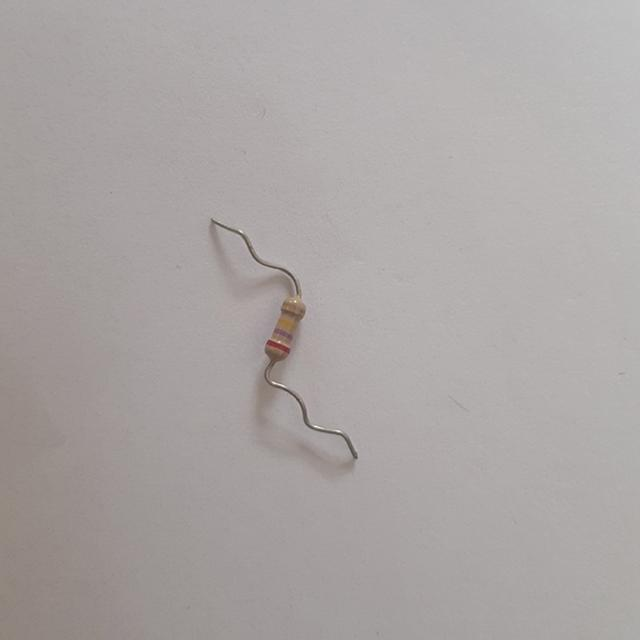gold: (282, 303, 304, 315)
red: (267, 337, 289, 353)
resistor: (254, 287, 315, 373)
violet: (273, 328, 291, 338)
yellow: (279, 318, 296, 327)
